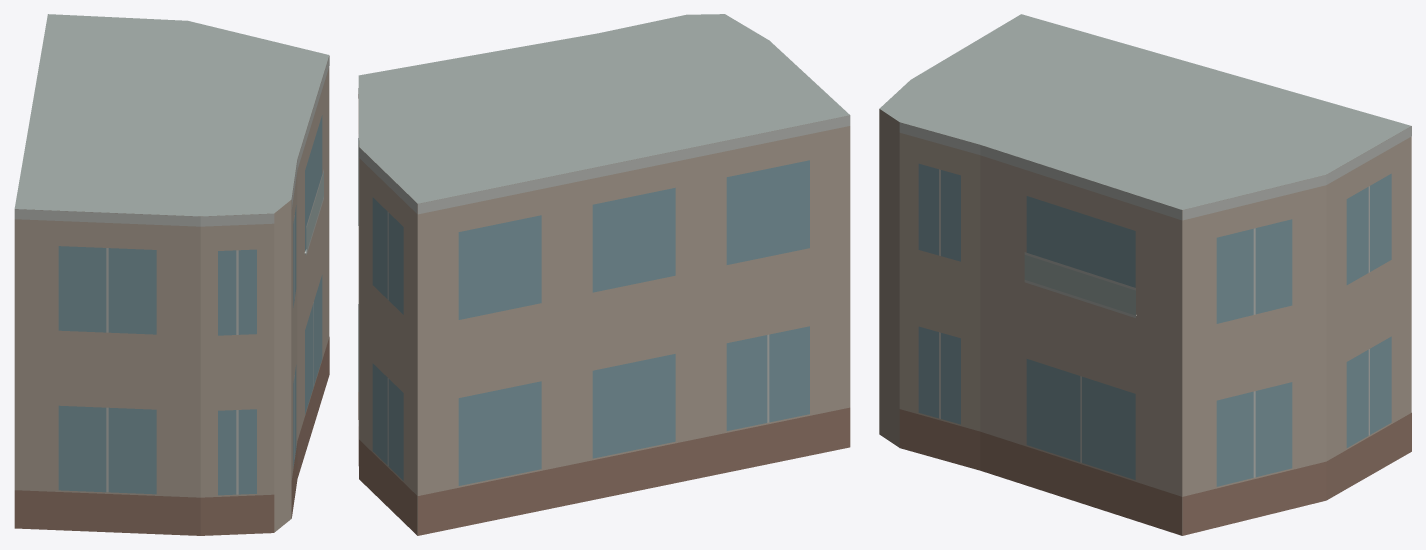
File: survey-upis-32519528.glb
3 renders of one model, left to right at view 1: azimuth 30°, elevation 25°; view 2: azimuth 150°, elevation 25°; view 3: azimuth 270°, elevation 25°, orthographic. The views are drawn at different scales.
Visible parts, largest first — view 1: survey-upis-32519528.tmp; view 2: survey-upis-32519528.tmp; view 3: survey-upis-32519528.tmp.
Part boxes in pixels (x1,y1,x2,y2): survey-upis-32519528.tmp: [14, 14, 329, 535]; survey-upis-32519528.tmp: [358, 14, 850, 535]; survey-upis-32519528.tmp: [879, 14, 1411, 535].
Size of the model in its own units: 9.82 by 7.6 by 11.26.
